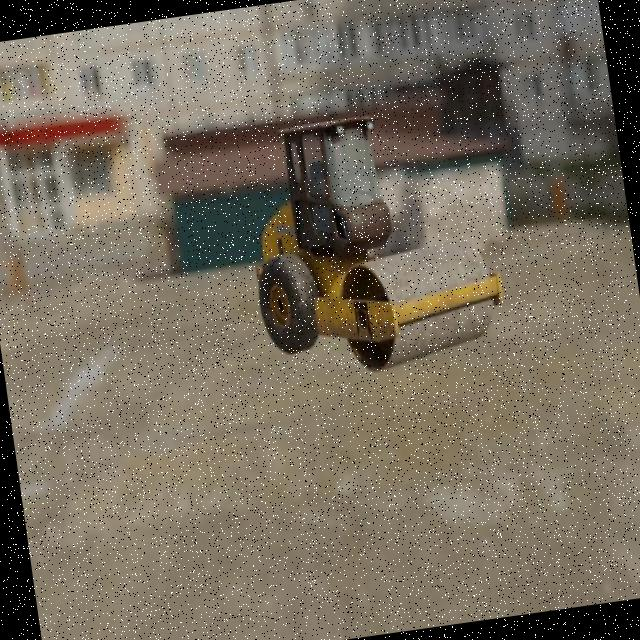Roller: (235, 100, 511, 388)
